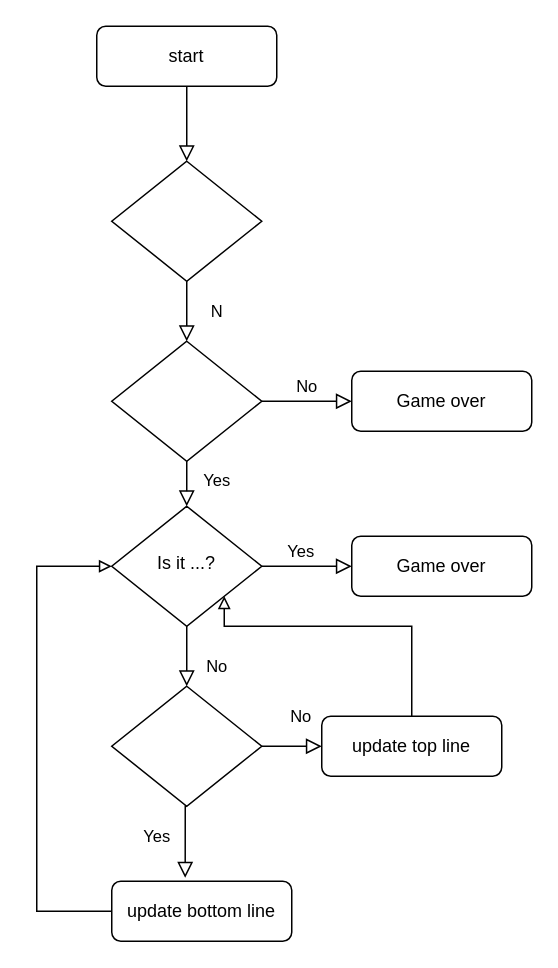
This 558x968 diagram has some shape labels left out. Each missing label, with the centre of its shape:
"Are you ready?" belongs at point (186, 400).
"Bigger then ...?" belongs at point (186, 745).
"Which range?" belongs at point (186, 220).
